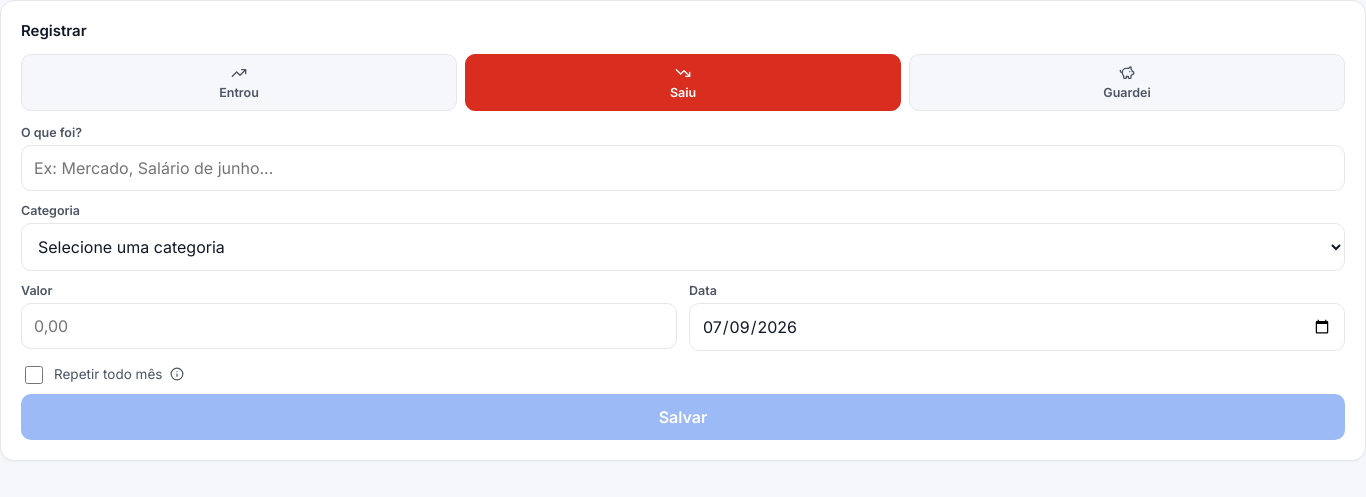
FormLancamento › reseta a categoria ao trocar o tipo de registro
Step 1. Click the radio button labelled "Entrou" → click(239, 82), box [21,54,457,111]
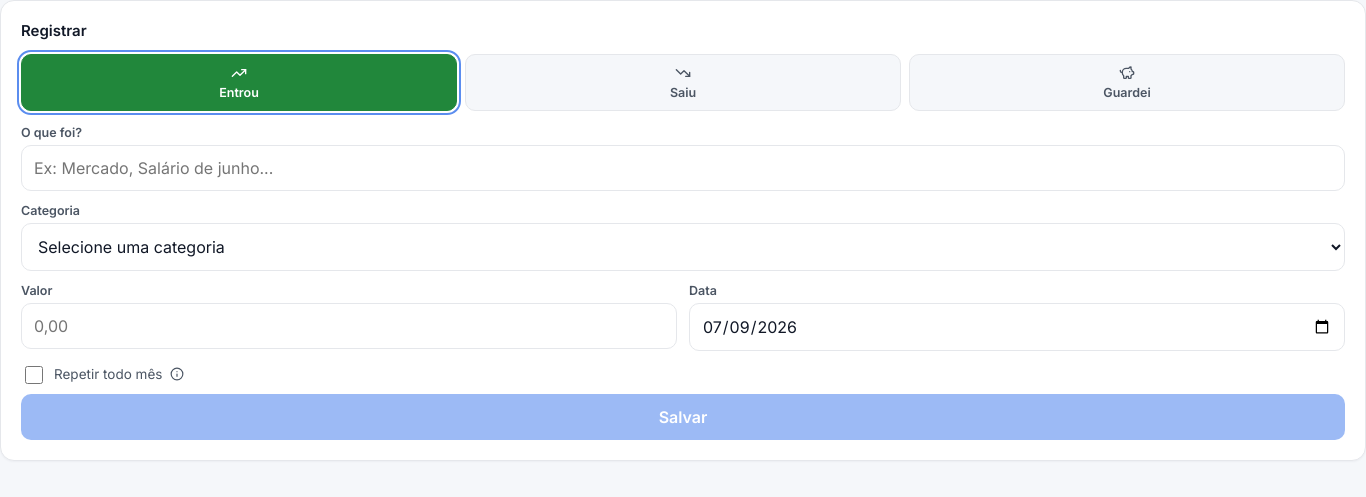
Step 2. Type "Salário de julho" into the field labelled "O que foi?" → (683, 168), box [21,145,1345,191]
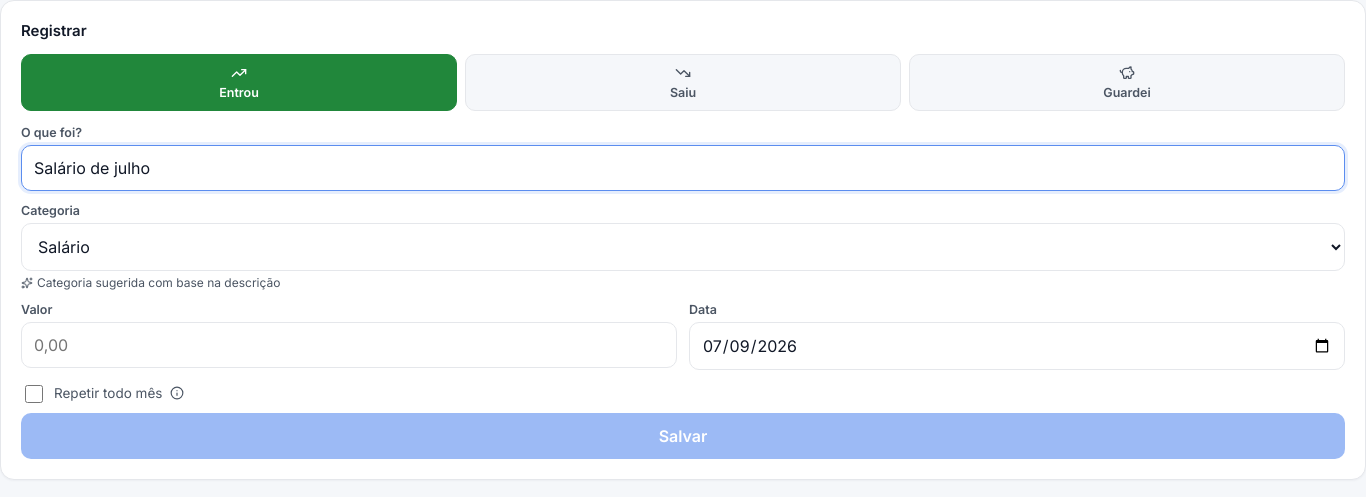
Result: the dropdown labelled "Categoria" shows "Salário" at [21,223,1345,271]
Step 3. Click the radio button labelled "Guardei" → click(1127, 82), box [909,54,1345,111]
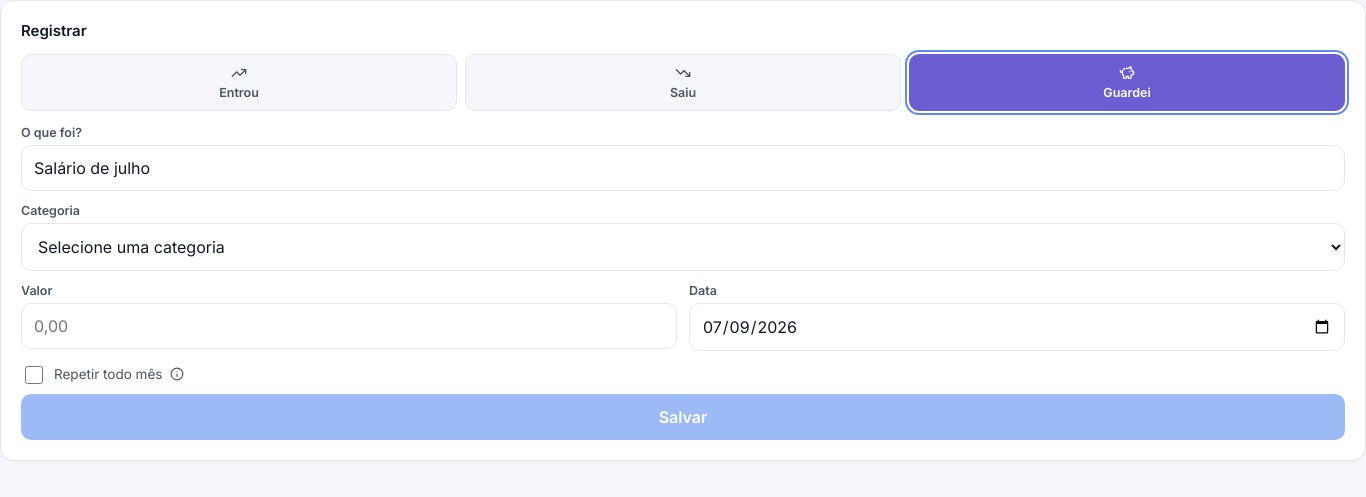
Result: the dropdown labelled "Categoria" shows "Selecione uma categoria" at [21,223,1345,271]
